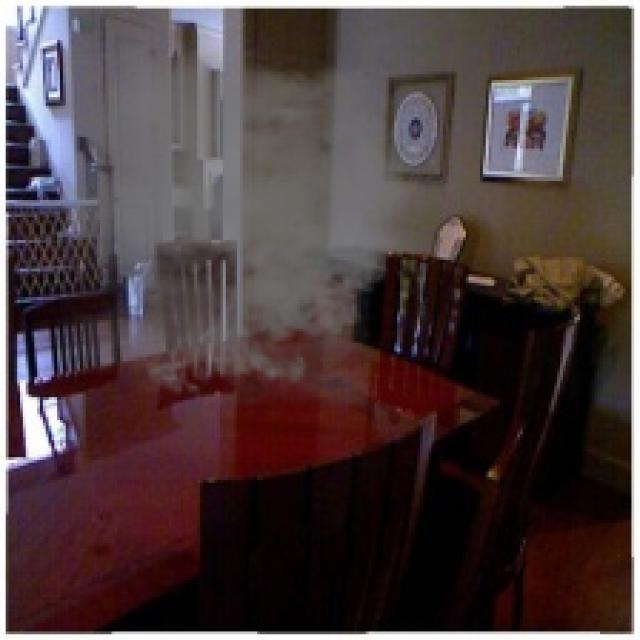smoke: (60, 46, 431, 406)
